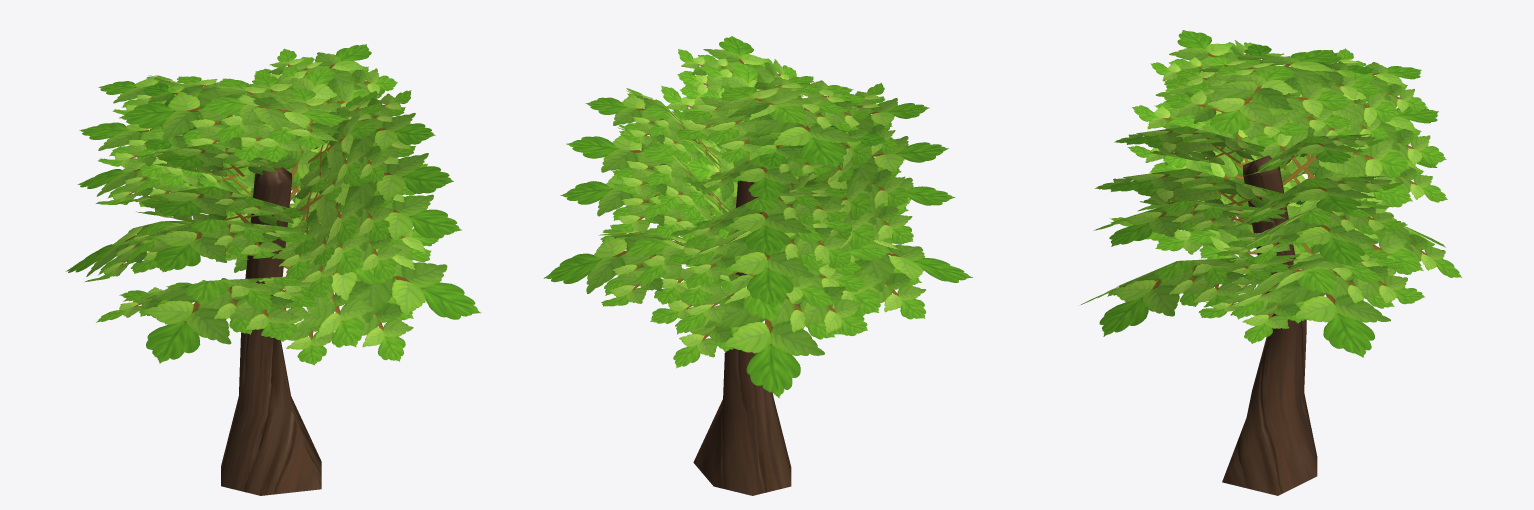
File: Tree1.fbx
The picture shows the model from 3 angles, left to right: view 1: azimuth 30°, elevation 25°; view 2: azimuth 150°, elevation 25°; view 3: azimuth 270°, elevation 25°; orthographic projection. The views are drawn at different scales.
Parts seen in each view (by area): view 1: pCylinder11, pPlane66, pPlane60, pPlane57, pPlane62, pPlane69, pPlane56, pPlane53, pPlane68, pPlane64, pPlane63, pPlane58 (+4 smaller); view 2: pPlane58, pPlane66, pCylinder11, pPlane59, pPlane54, pPlane61, pPlane57, pPlane64, pPlane63, pPlane69, pPlane68, pPlane55 (+4 smaller); view 3: pPlane66, pCylinder11, pPlane59, pPlane60, pPlane64, pPlane55, pPlane67, pPlane62, pPlane56, pPlane61, pPlane58, pPlane69 (+6 smaller).
Part boxes in pixels (<box>): pCylinder11: <box>221,167,321,495</box>; pPlane66: <box>119,74,346,161</box>; pPlane60: <box>262,226,481,365</box>; pPlane57: <box>96,275,327,363</box>; pPlane62: <box>283,130,453,264</box>; pPlane69: <box>301,90,435,200</box>; pPlane56: <box>271,163,461,292</box>; pPlane53: <box>113,219,310,271</box>; pPlane68: <box>246,44,397,154</box>; pPlane64: <box>79,122,253,194</box>; pPlane63: <box>115,186,306,225</box>; pPlane58: <box>65,221,255,281</box>; pPlane58: <box>650,244,867,398</box>; pPlane66: <box>676,76,887,168</box>; pCylinder11: <box>693,167,791,495</box>; pPlane59: <box>543,228,735,306</box>; pPlane54: <box>668,206,852,307</box>; pPlane61: <box>566,124,730,219</box>; pPlane57: <box>821,219,972,334</box>; pPlane64: <box>670,183,850,256</box>; pPlane63: <box>780,123,948,242</box>; pPlane69: <box>677,36,796,141</box>; pPlane68: <box>585,88,722,170</box>; pPlane55: <box>560,167,729,241</box>; pPlane66: <box>1164,43,1381,139</box>; pCylinder11: <box>1222,155,1317,495</box>; pPlane59: <box>1198,244,1424,357</box>; pPlane60: <box>1081,254,1299,336</box>; pPlane64: <box>1256,100,1446,202</box>; pPlane55: <box>1216,199,1407,267</box>; pPlane67: <box>1299,48,1427,139</box>; pPlane62: <box>1094,168,1284,217</box>; pPlane56: <box>1093,200,1286,246</box>; pPlane61: <box>1221,176,1403,229</box>; pPlane58: <box>1243,201,1461,288</box>; pPlane69: <box>1114,126,1265,164</box>.
Bounding box in the file's own units: 20.77 × 17.93 × 20.18.
